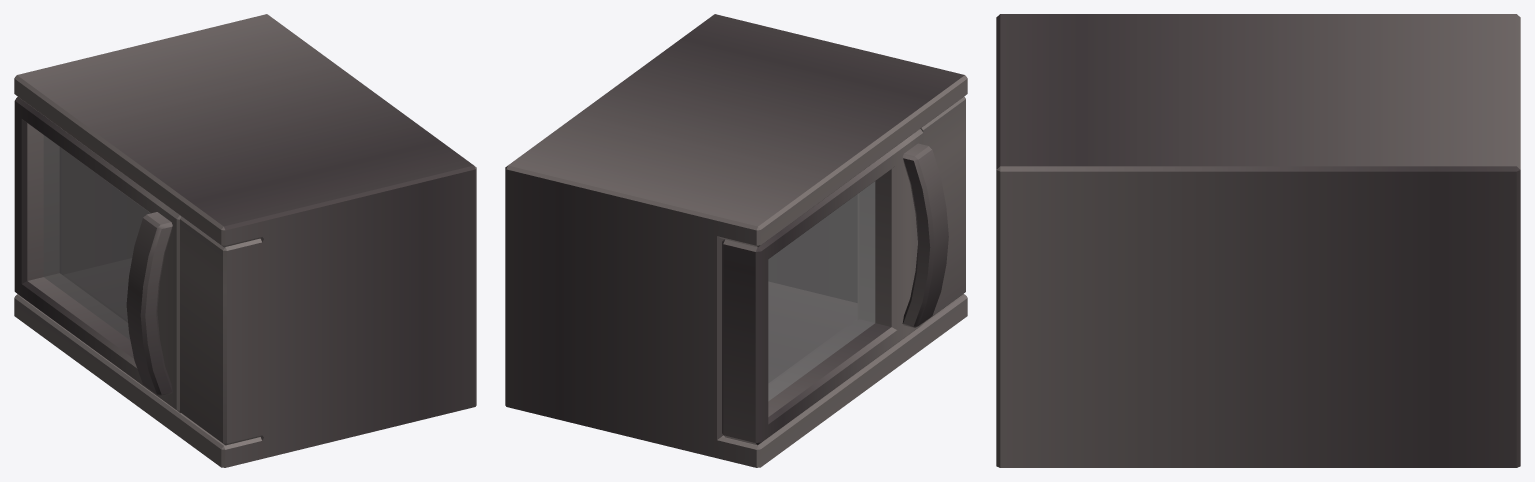
File: Microwave.fbx
3 renders of one model, left to right at view 1: azimuth 30°, elevation 25°; view 2: azimuth 150°, elevation 25°; view 3: azimuth 270°, elevation 25°, orthographic. The views are drawn at different scales.
Parts seen in each view (by area): view 1: micro_body, micro_door; view 2: micro_body, micro_door; view 3: micro_body.
Part boxes in pixels (box(x1,y1,x2,y2)): micro_body: box(14, 14, 476, 467); micro_door: box(14, 97, 181, 412); micro_body: box(505, 14, 967, 467); micro_door: box(722, 129, 948, 445); micro_body: box(996, 14, 1520, 467).
Bounding box in the file's own units: 48.49 × 38.88 × 61.59.
